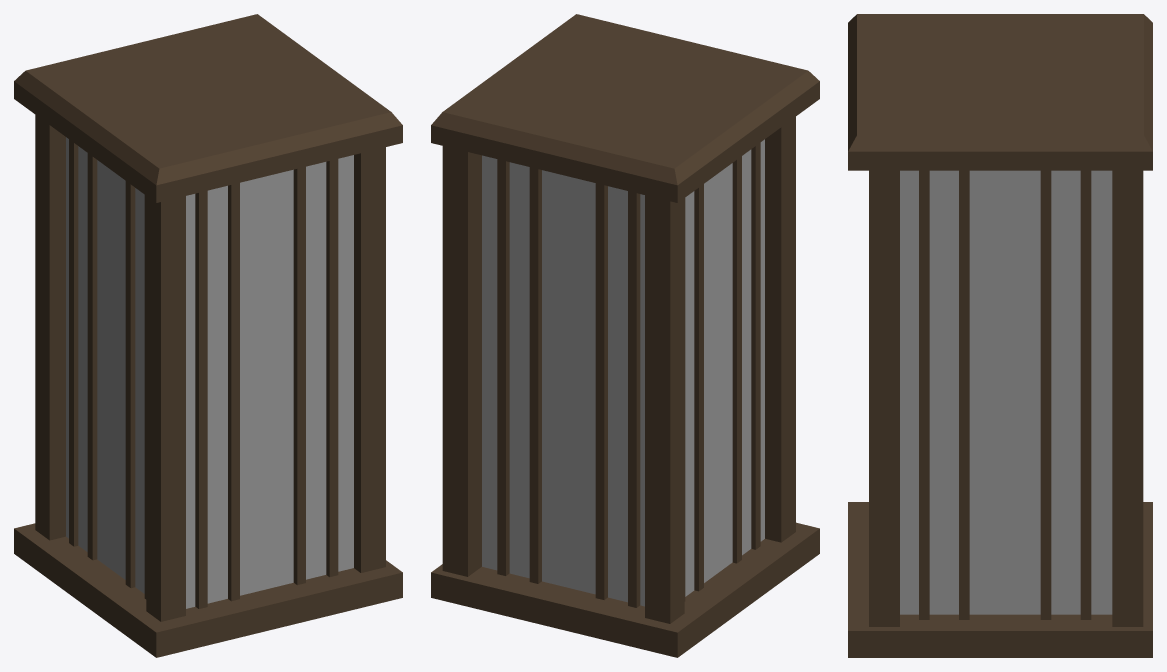
The model's file is Lightbox_fbx.fbx.
3 views of the same model, side by side, from view 1: azimuth 30°, elevation 25°; view 2: azimuth 150°, elevation 25°; view 3: azimuth 270°, elevation 25° (orthographic). The views are drawn at different scales.
Visible parts, largest first — view 1: light, pCube49; view 2: light, pCube49; view 3: light, pCube49.
Part boxes in pixels (bbox=[...]): light: bbox=[14, 14, 402, 657]; pCube49: bbox=[66, 137, 353, 608]; light: bbox=[431, 14, 819, 657]; pCube49: bbox=[482, 139, 764, 606]; light: bbox=[848, 14, 1152, 657]; pCube49: bbox=[900, 170, 1112, 614].
Size of the model in its own units: 2.43 by 4.56 by 2.43.
